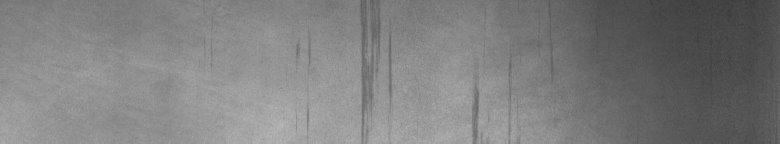ka: (468, 57, 553, 136)
